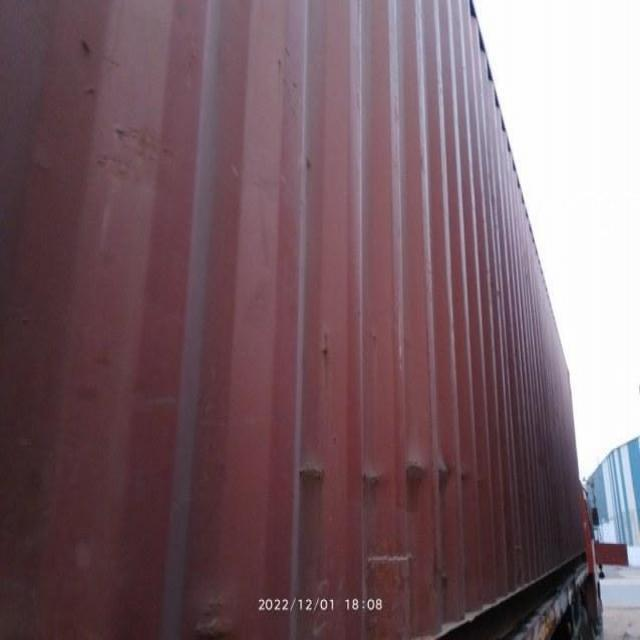Minor-Dent: (408, 453, 436, 499), (300, 454, 326, 501), (361, 463, 386, 509), (443, 455, 455, 485)
